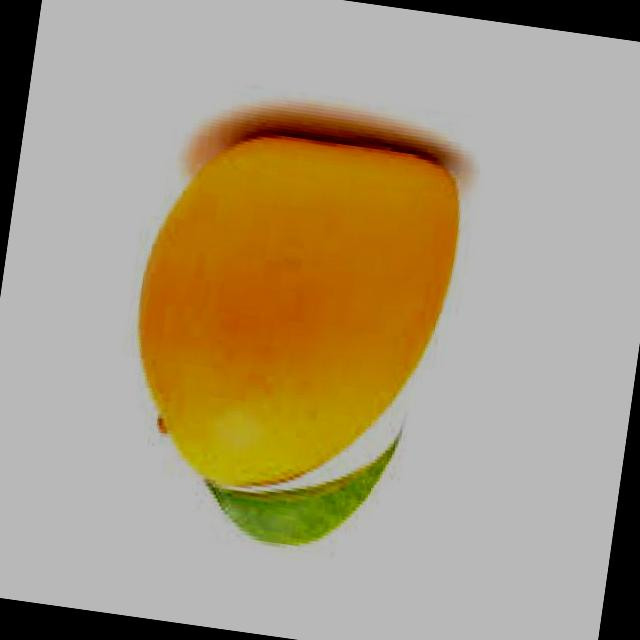Mango: (109, 108, 469, 560)
